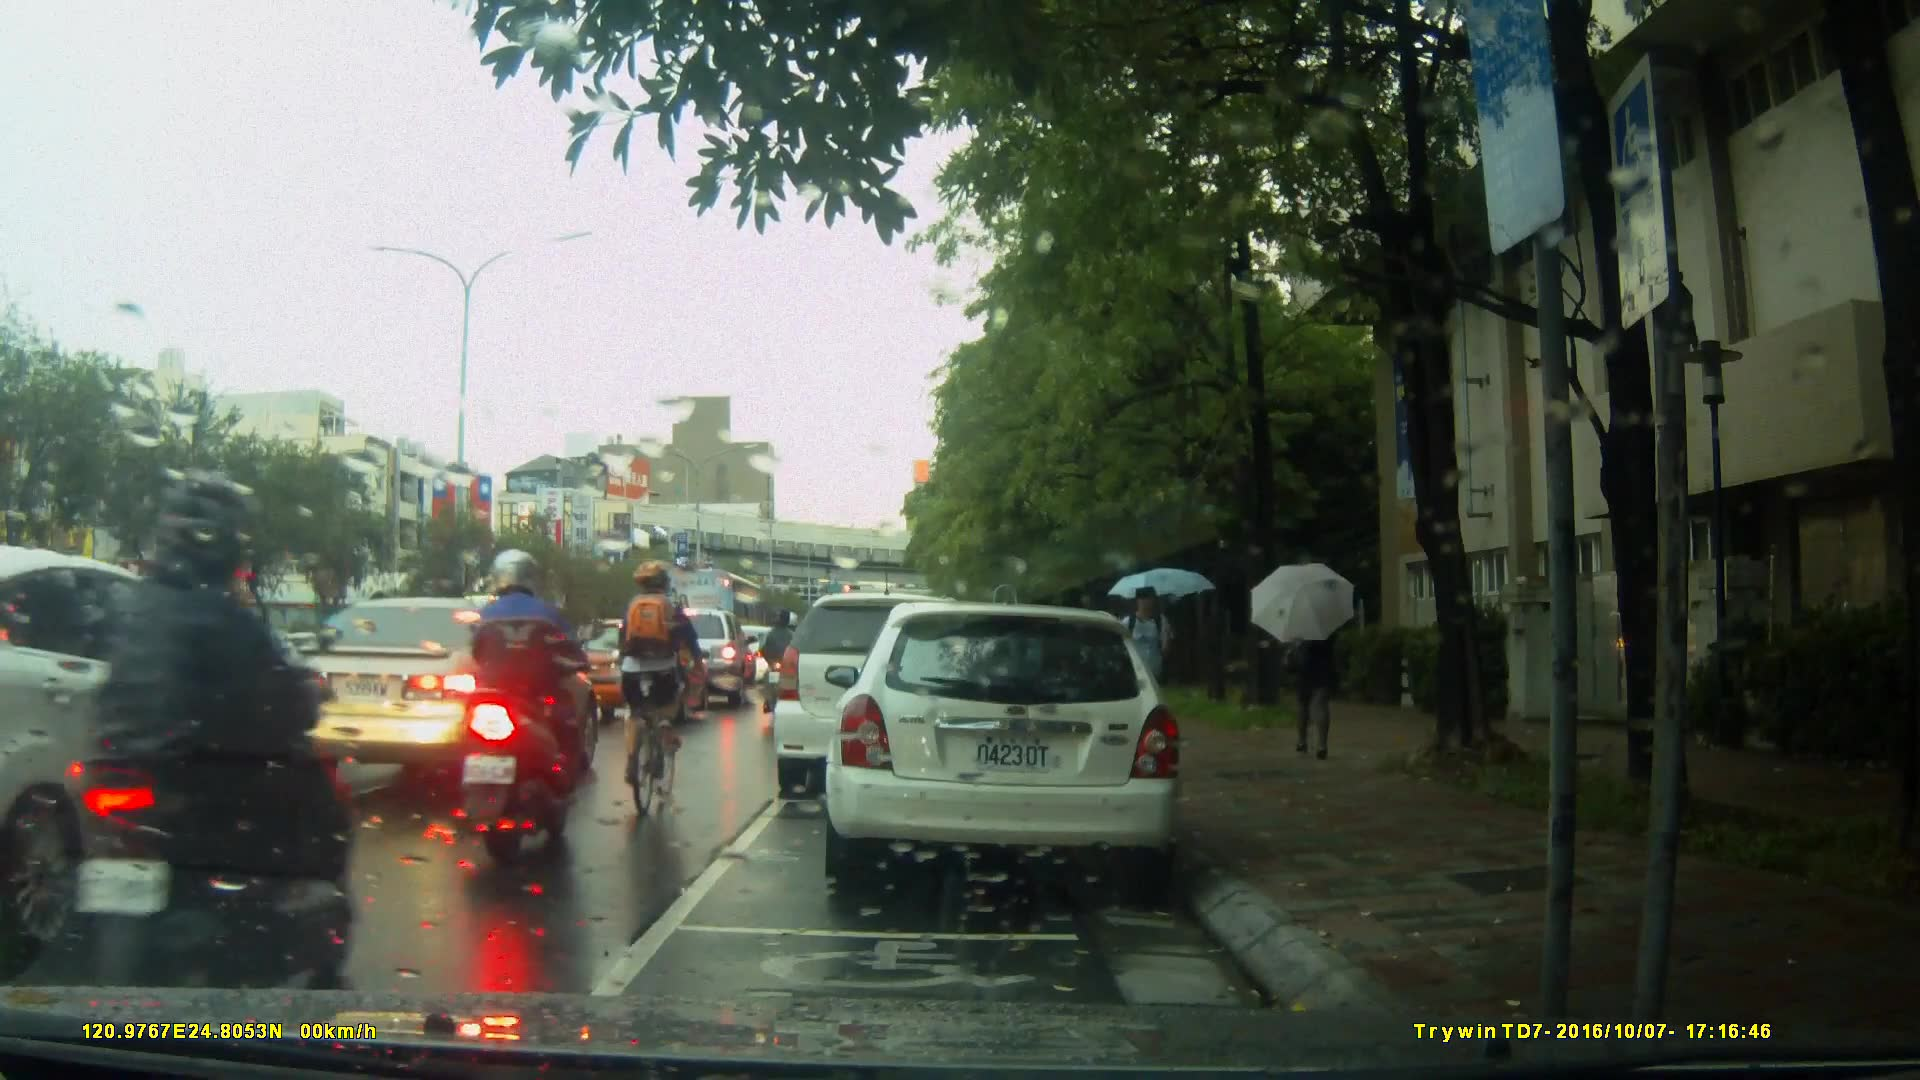pedestrian: (1130, 569, 1186, 783), (1278, 580, 1334, 761)
rider: (62, 470, 356, 1029), (464, 550, 592, 863), (616, 566, 713, 824), (770, 610, 803, 722)
vehicle: (1, 550, 314, 952), (835, 594, 1194, 898), (253, 596, 609, 793), (776, 590, 1026, 784), (559, 619, 709, 726), (655, 566, 771, 673)
